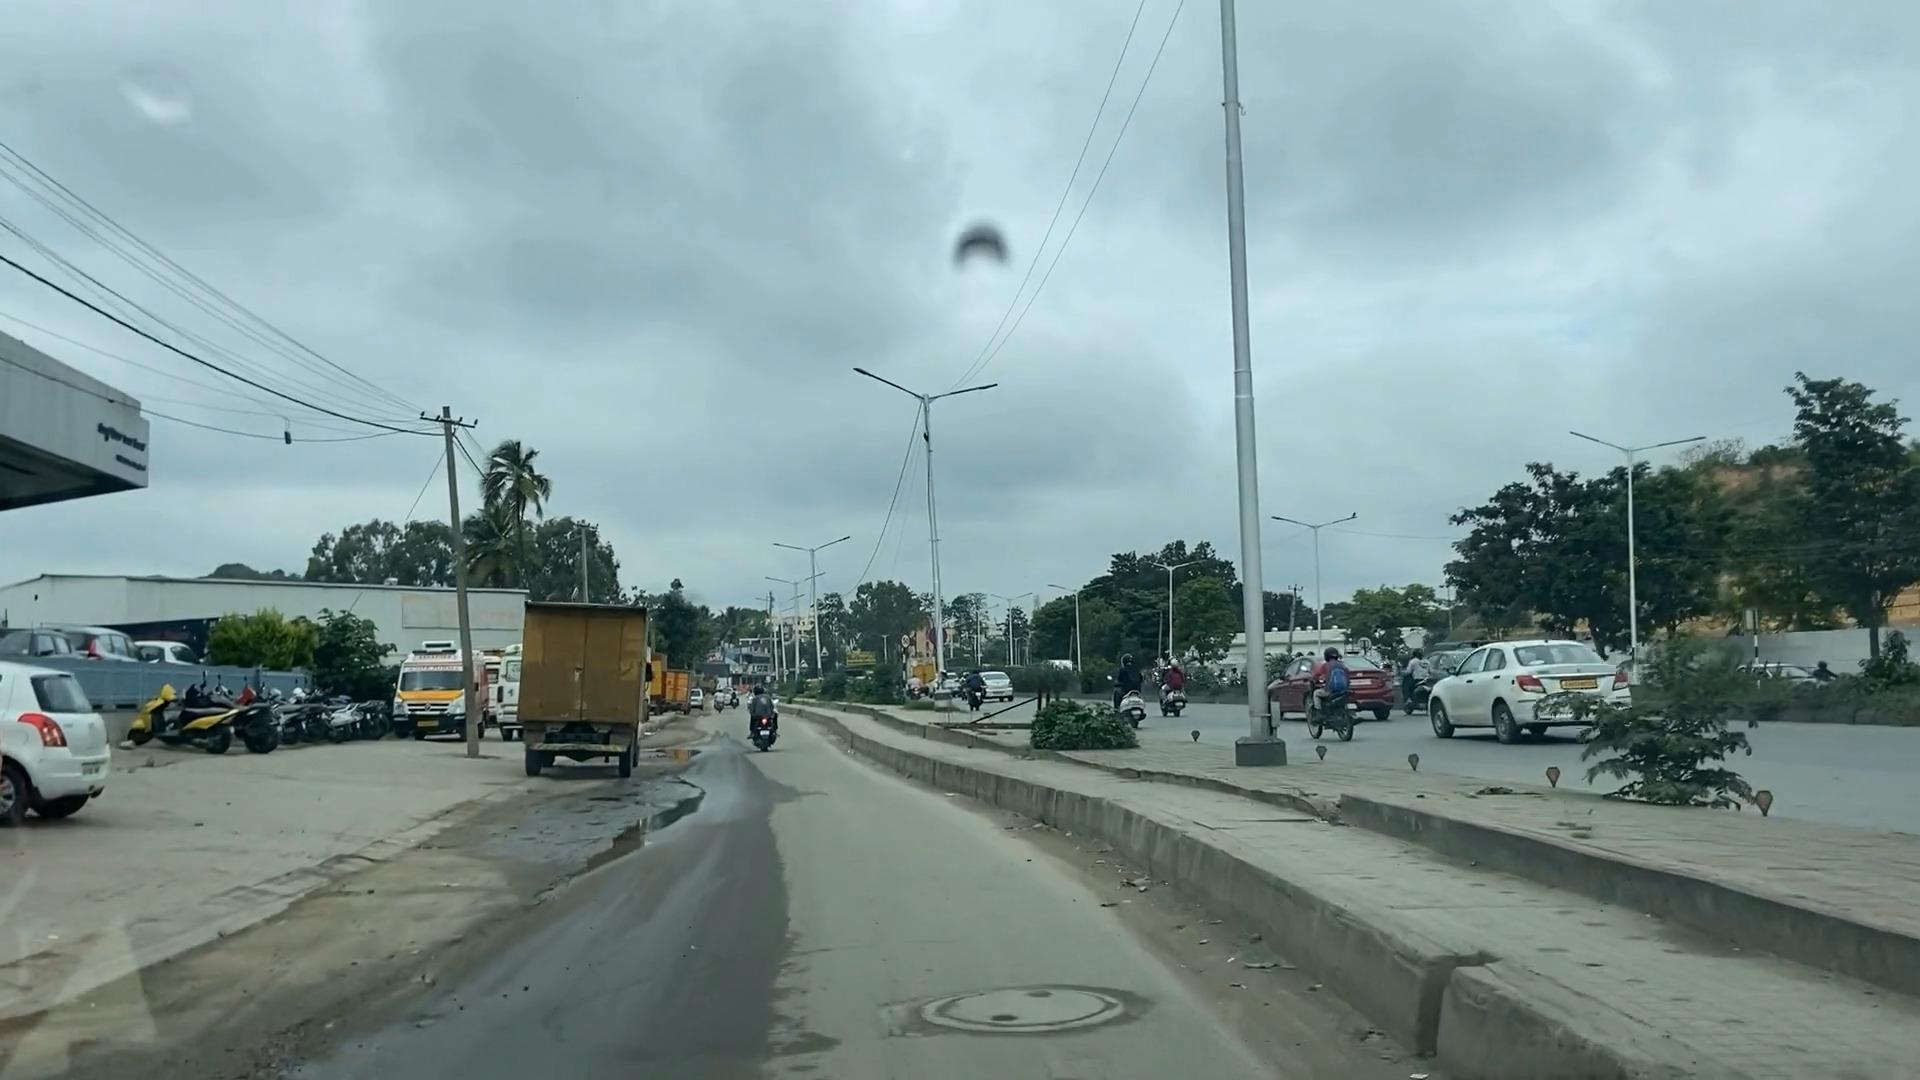RoadDamages: (877, 967, 1167, 1059)
